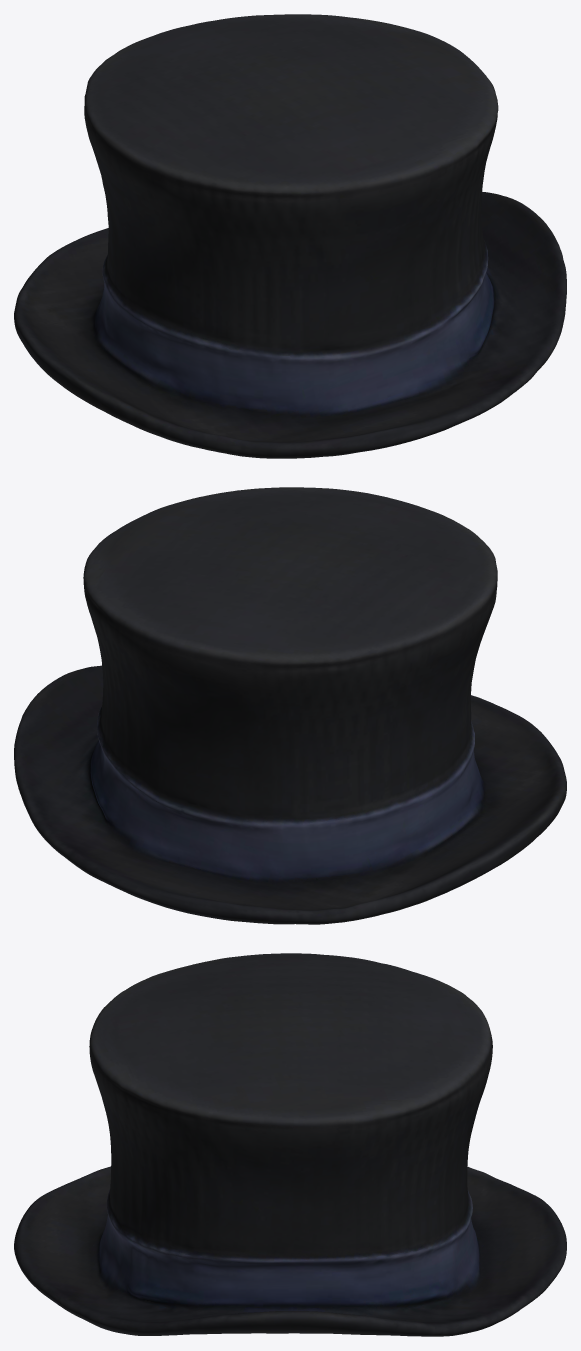
Rendered from 2d4f780b303e_top_hat__3d_asset_0.fbx.
The picture shows the model from 3 angles, top to bottom: view 1: azimuth 30°, elevation 25°; view 2: azimuth 150°, elevation 25°; view 3: azimuth 270°, elevation 25°; orthographic projection. The views are drawn at different scales.
Parts seen in each view (by area): view 1: high_poly; view 2: high_poly; view 3: high_poly.
Boxes of the visible parts, x1,y1,x2,y2 form: high_poly: (14, 14, 566, 458); high_poly: (14, 487, 566, 924); high_poly: (14, 953, 566, 1336).
Bounding box in the file's own units: 95.71 × 49.98 × 100.
